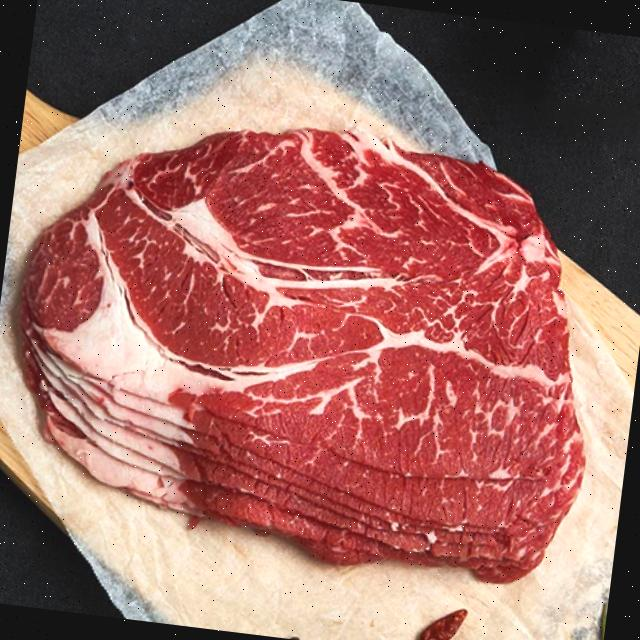meat: (0, 70, 640, 597)
